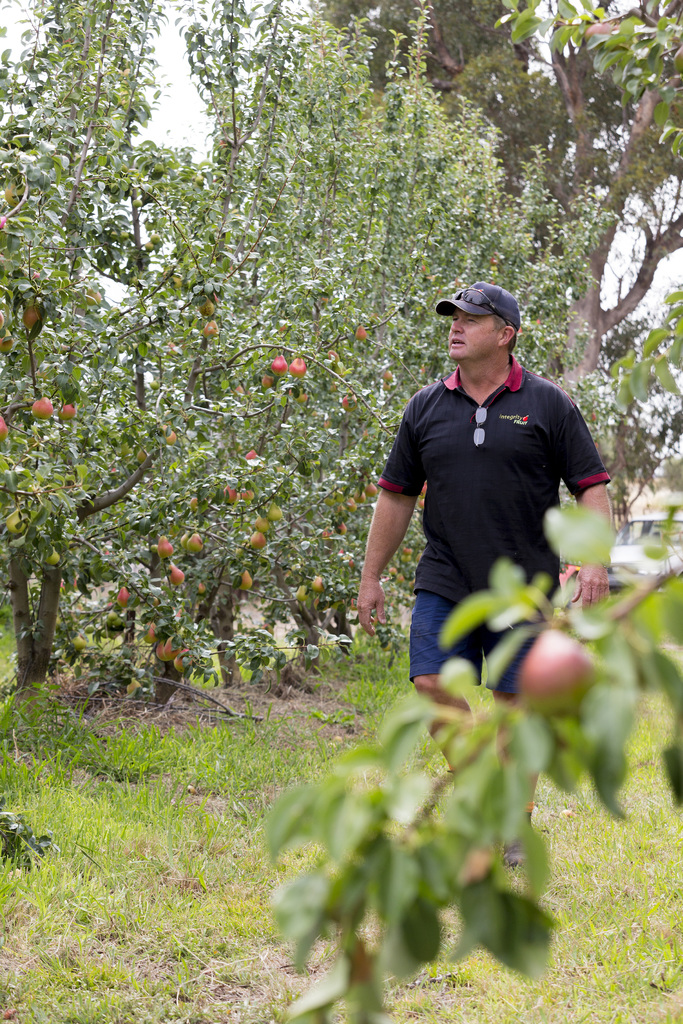Apple: (518, 627, 592, 695)
